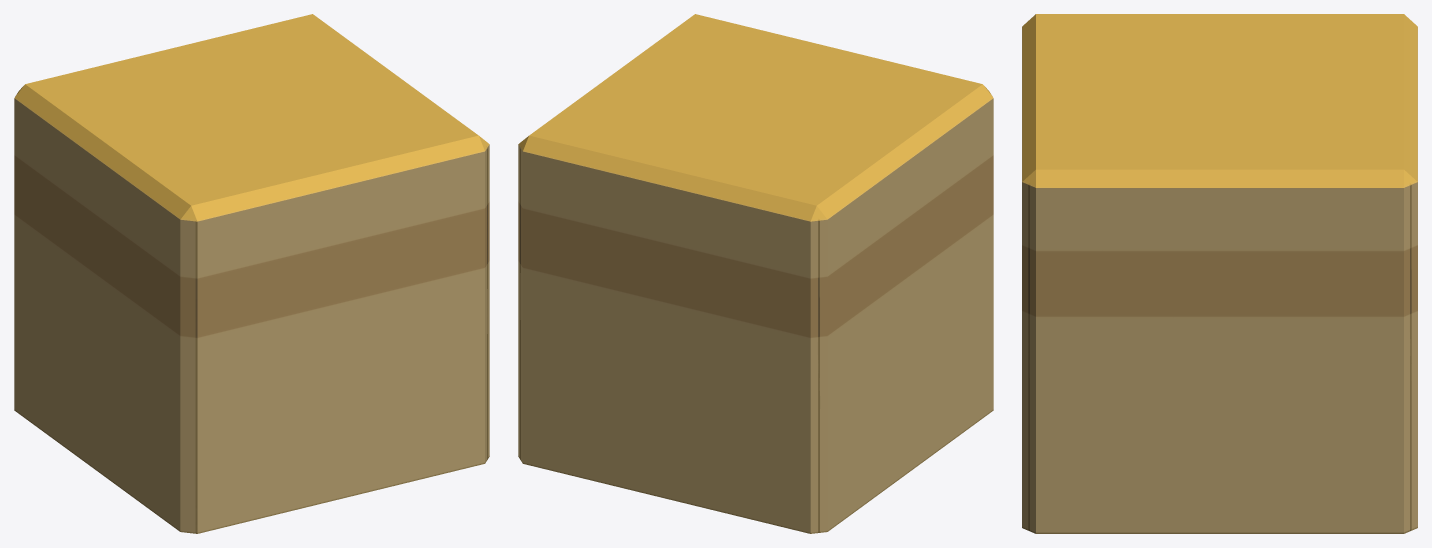
File: square1.fbx
3 renders of one model, left to right at view 1: azimuth 30°, elevation 25°; view 2: azimuth 150°, elevation 25°; view 3: azimuth 270°, elevation 25°, orthographic. The views are drawn at different scales.
Parts seen in each view (by area): view 1: Cube.250; view 2: Cube.250; view 3: Cube.250.
Part boxes in pixels (x1,y1,x2,y2): Cube.250: (14, 14, 489, 533); Cube.250: (518, 14, 993, 533); Cube.250: (1022, 14, 1417, 533).
Bounding box in the file's own units: 200 × 200 × 200.
